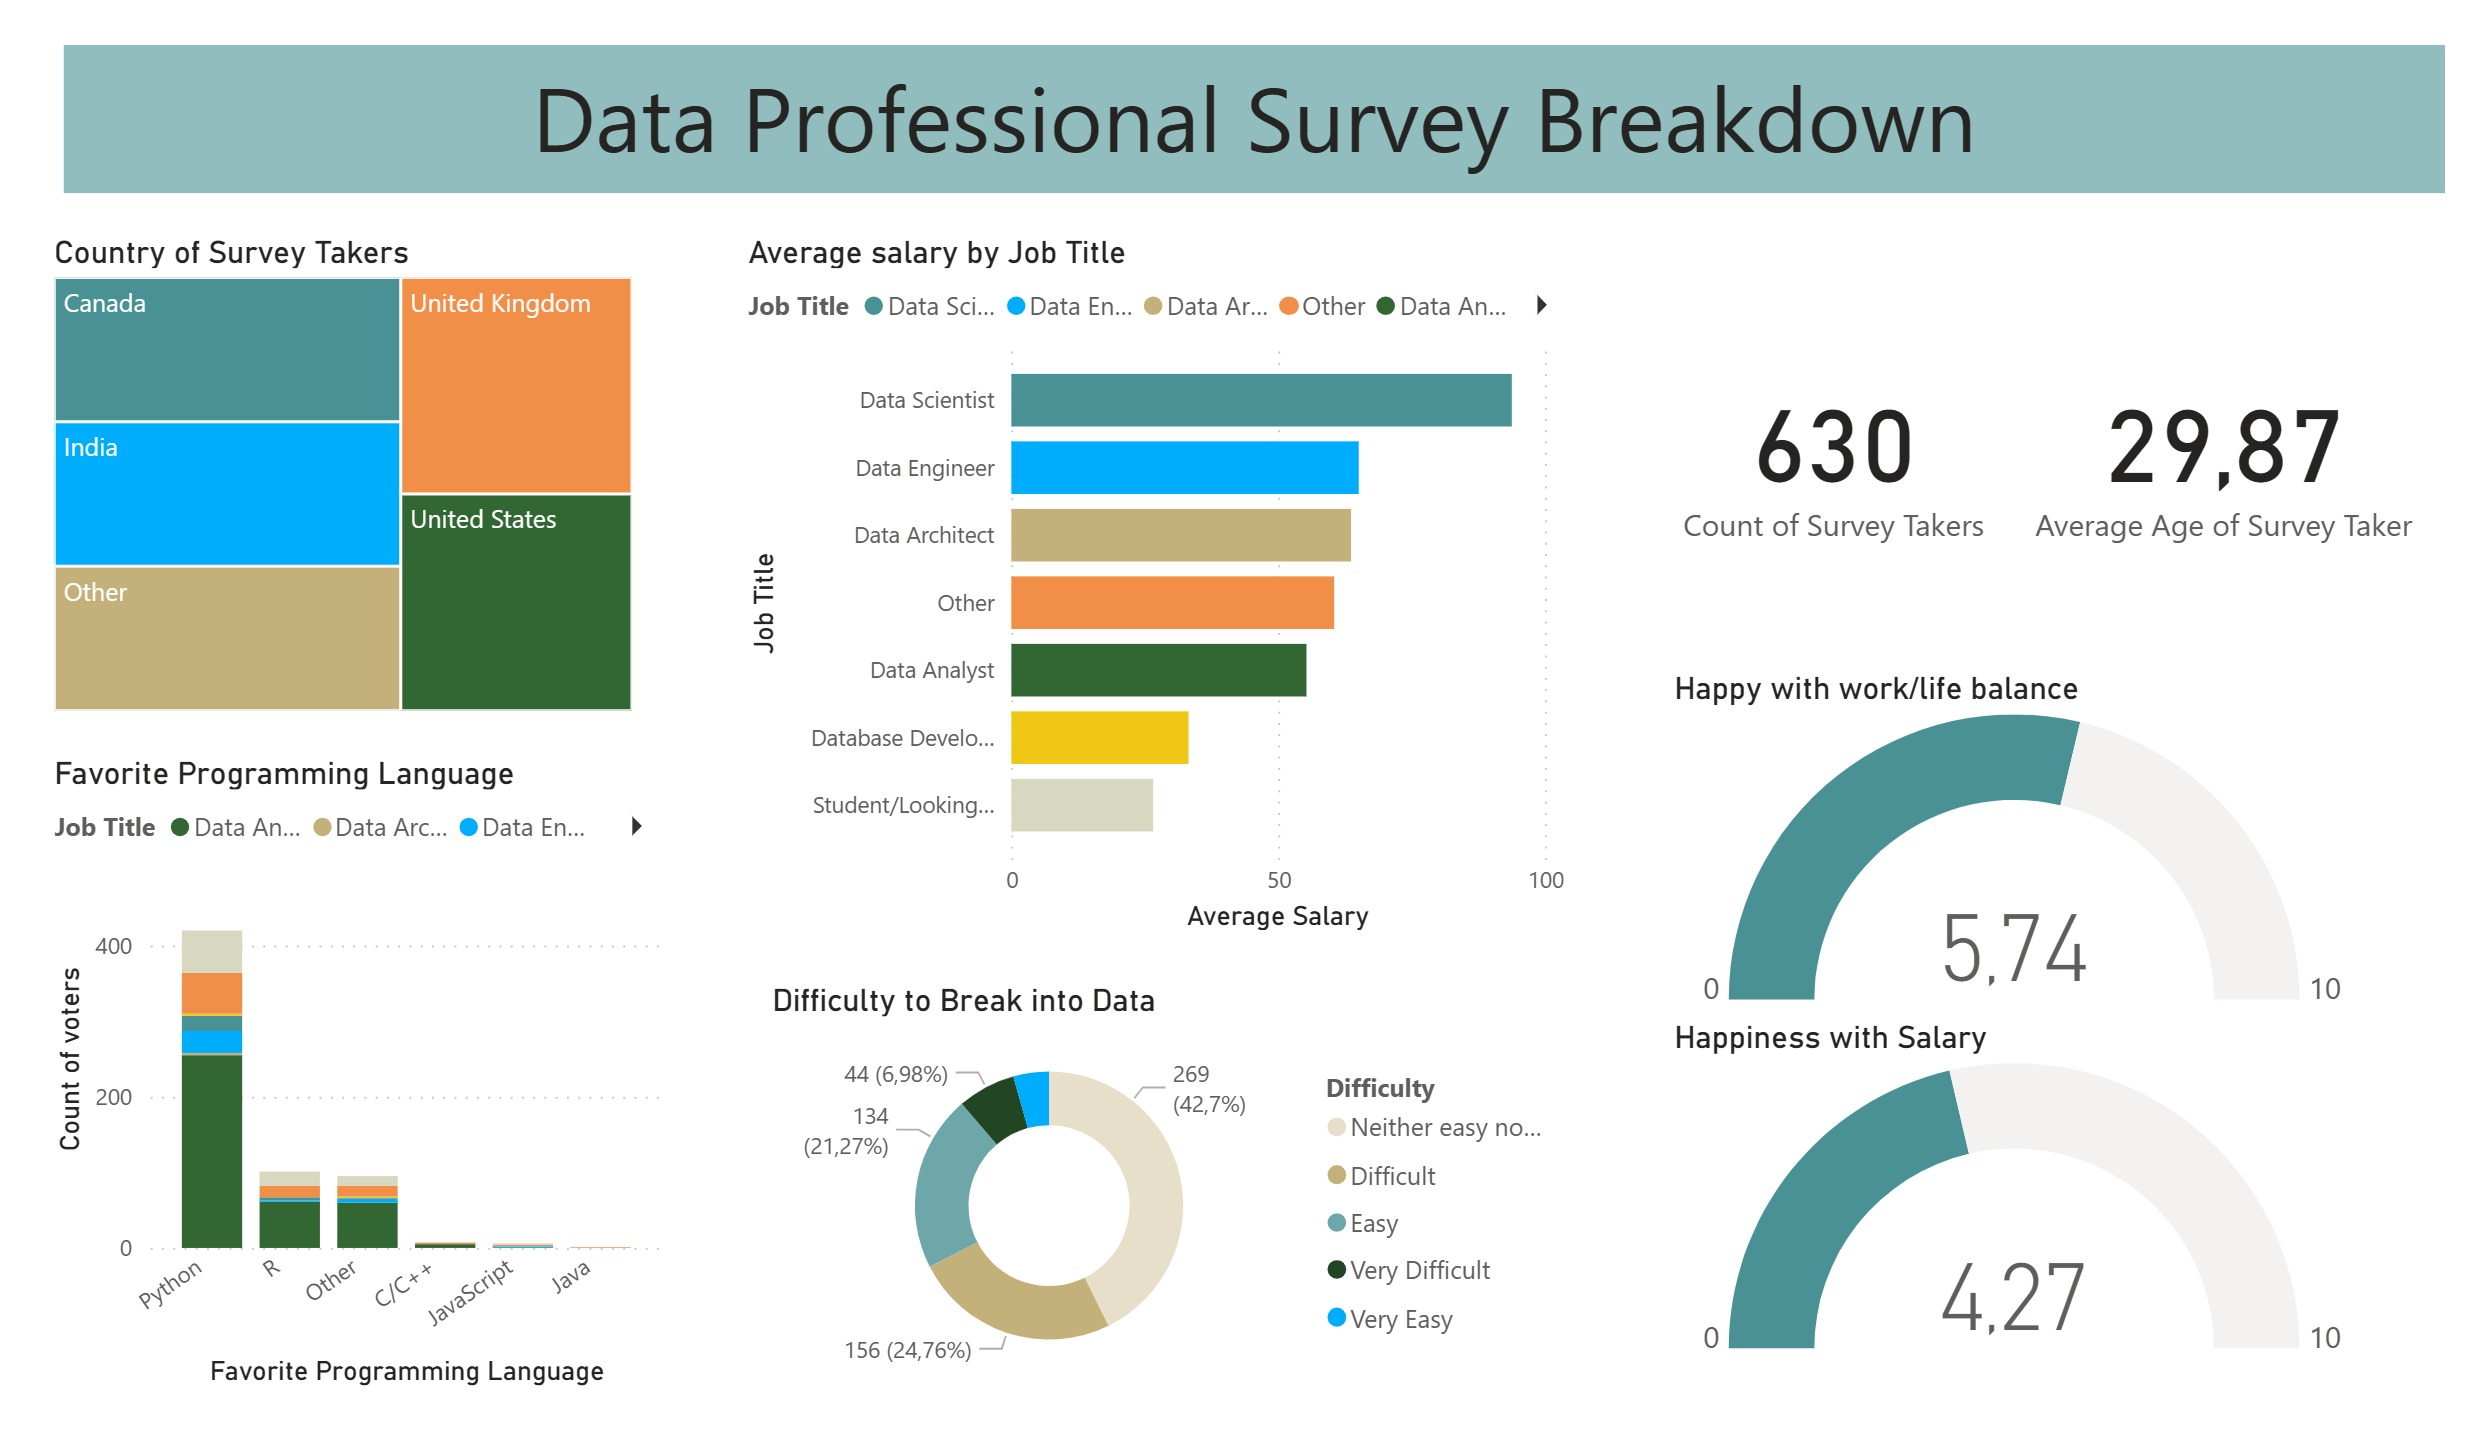

The dashboard page shown, as its layout file describes it:
{"tool":"powerbi","page":{"name":"Page 1","canvas":[1280,720],"ordinal":0},"visuals":[{"type":"textbox","box":[10,0,1270.3,78.7],"z":0},{"type":"card","fields":{"Values":["Count(Data Professional Survey.Unique ID)"]},"box":[863.6,142.3,180.8,150.6],"z":1000},{"type":"card","fields":{"Values":["Avg(Data Professional Survey.Q10 - Current Age)"]},"box":[1044.4,142.3,236,150.6],"z":2000},{"type":"barChart","title":"Average salary by Job Title","fields":{"Category":["Data Professional Survey.Q1 - Which Title Best Fits your Current Role?.1"],"Y":["Avg(Data Professional Survey.Average salary)"],"Series":["Data Professional Survey.Q1 - Which Title Best Fits your Current Role?.1"]},"box":[369.9,100.4,445.2,376.6],"z":3000},{"type":"columnChart","title":"Favorite Programming Language","fields":{"Category":["Data Professional Survey.Q5 - Favorite Programming Language.1"],"Y":["CountNonNull(Data Professional Survey.Unique ID)"],"Series":["Data Professional Survey.Q1 - Which Title Best Fits your Current Role?.1"]},"box":[0,378.2,334.7,341.4],"z":4000},{"type":"treemap","title":"Country of Survey Takers","fields":{"Group":["Data Professional Survey.Q11 - Which Country do you live in?.1"],"Values":["Count(Data Professional Survey.Q11 - Which Country do you live in?.1)"]},"box":[0,100.4,318,259.4],"z":5000},{"type":"gauge","title":"Happy with work/life balance","fields":{"Y":["Avg(Data Professional Survey.Q6 - How Happy are you in your Current Position with the following? (Work/Life Balance))"],"MinValue":["Min(Data Professional Survey.Q6 - How Happy are you in your Current Position with the following? (Work/Life Balance))"],"MaxValue":["Max(Data Professional Survey.Q6 - How Happy are you in your Current Position with the following? (Work/Life Balance))"]},"box":[863.6,333.1,381.6,185.8],"z":6000},{"type":"gauge","title":"Happiness with Salary","fields":{"Y":["Avg(Data Professional Survey.Q6 - How Happy are you in your Current Position with the following? (Salary))"],"MinValue":["Min(Data Professional Survey.Q6 - How Happy are you in your Current Position with the following? (Salary))"],"MaxValue":["Max(Data Professional Survey.Q6 - How Happy are you in your Current Position with the following? (Salary))"]},"box":[863.6,518.8,381.6,185.8],"z":7000},{"type":"donutChart","title":"Difficulty to Break into Data","fields":{"Category":["Data Professional Survey.Q7 - How difficult was it for you to break into Data?"],"Series":["Data Professional Survey.Q7 - How difficult was it for you to break into Data?"],"Y":["CountNonNull(Data Professional Survey.Q7 - How difficult was it for you to break into Data?)"]},"box":[383.3,498.7,431.8,220.9],"z":8000}]}

Visuals, with their boxes in screenshot pixels (x1, y1, x2, y2), scaled from the page's 1280x720 canvas onto the 2490x1440 screenshot:
textbox: [19, 0, 2489, 157]
card - Count(Data Professional Survey.Unique ID): [1680, 285, 2032, 586]
card - Avg(Data Professional Survey.Q10 - Current Age): [2032, 285, 2489, 586]
"Average salary by Job Title" barChart: [720, 201, 1586, 954]
"Favorite Programming Language" columnChart: [0, 756, 651, 1439]
"Country of Survey Takers" treemap: [0, 201, 619, 720]
"Happy with work/life balance" gauge: [1680, 666, 2422, 1038]
"Happiness with Salary" gauge: [1680, 1038, 2422, 1409]
"Difficulty to Break into Data" donutChart: [746, 997, 1586, 1439]
